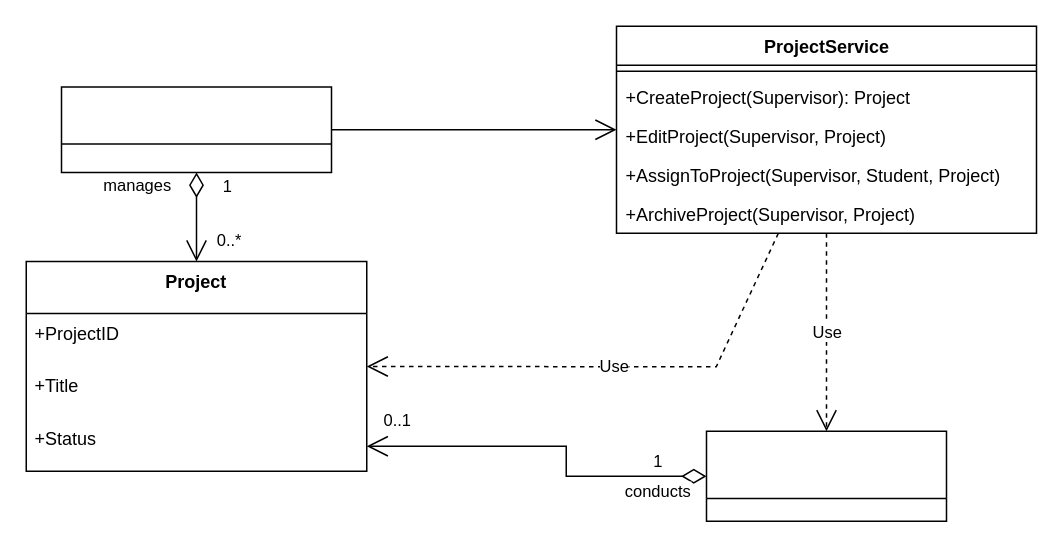
Image size: 1064x548. Some labels were removed from this diagram. The centre of each missing label's shape, as x and y in pixels:
Student: point (825, 475)
Supervisor: point (196, 129)
